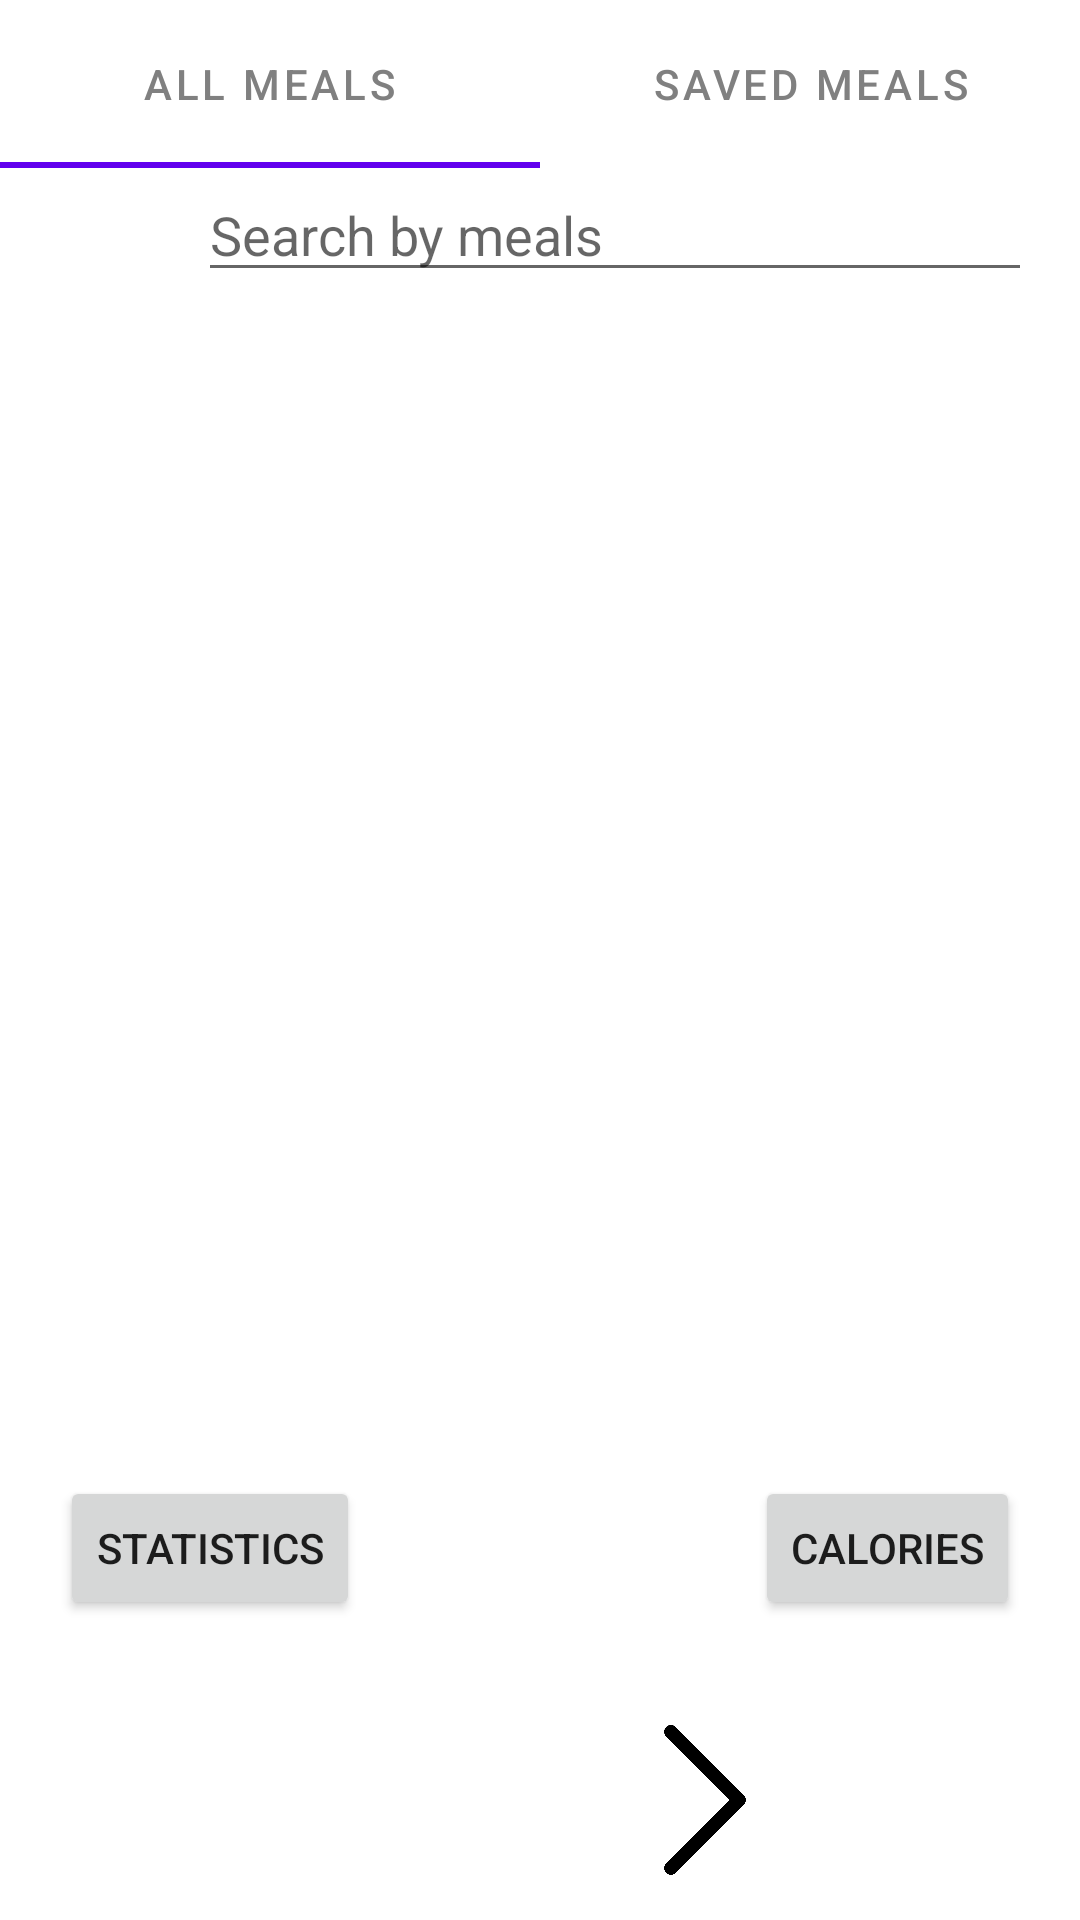

Named icons in this screenshot (1080 x 1920) and their centers, (x=x, y=y):
forward pagination: (x=705, y=1800)
